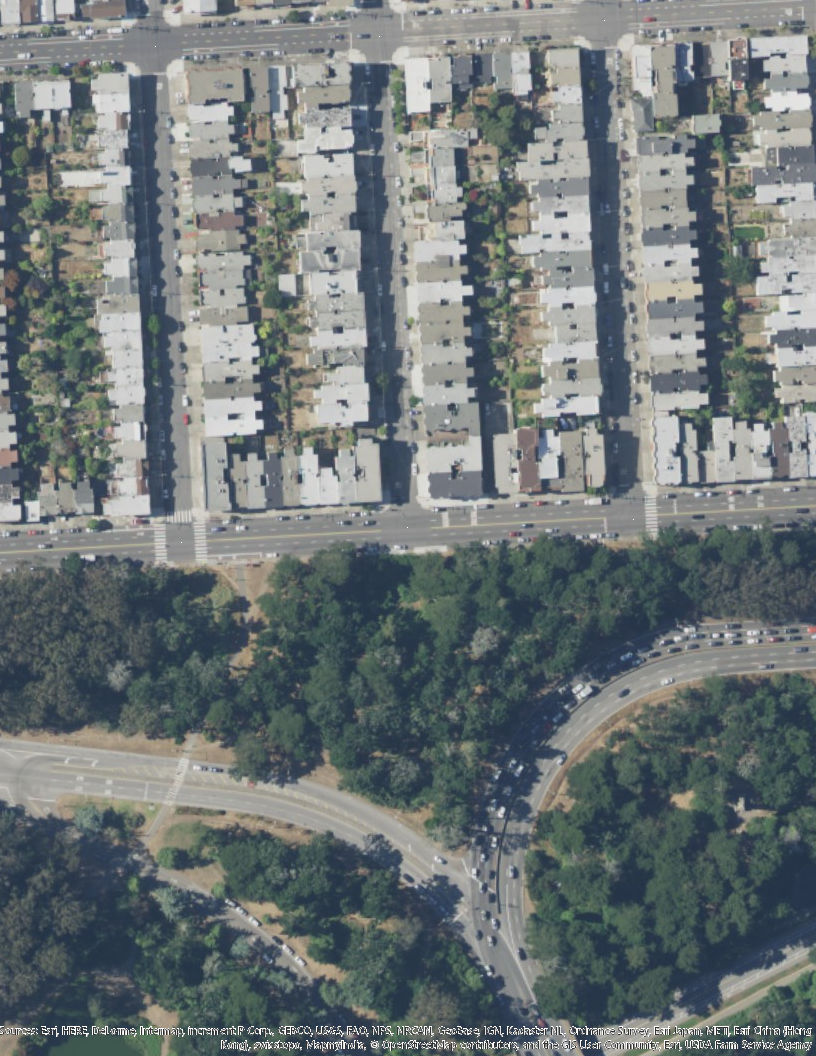zebracross: (192, 523, 209, 563), (643, 496, 659, 535), (153, 524, 167, 563), (166, 508, 192, 525)
